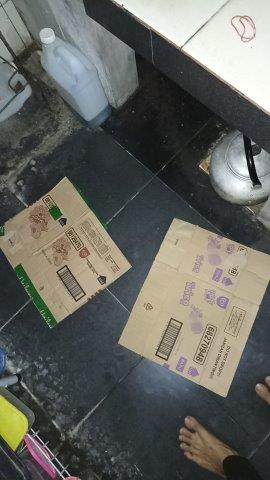kardus: (118, 219, 270, 396), (1, 178, 130, 328)
